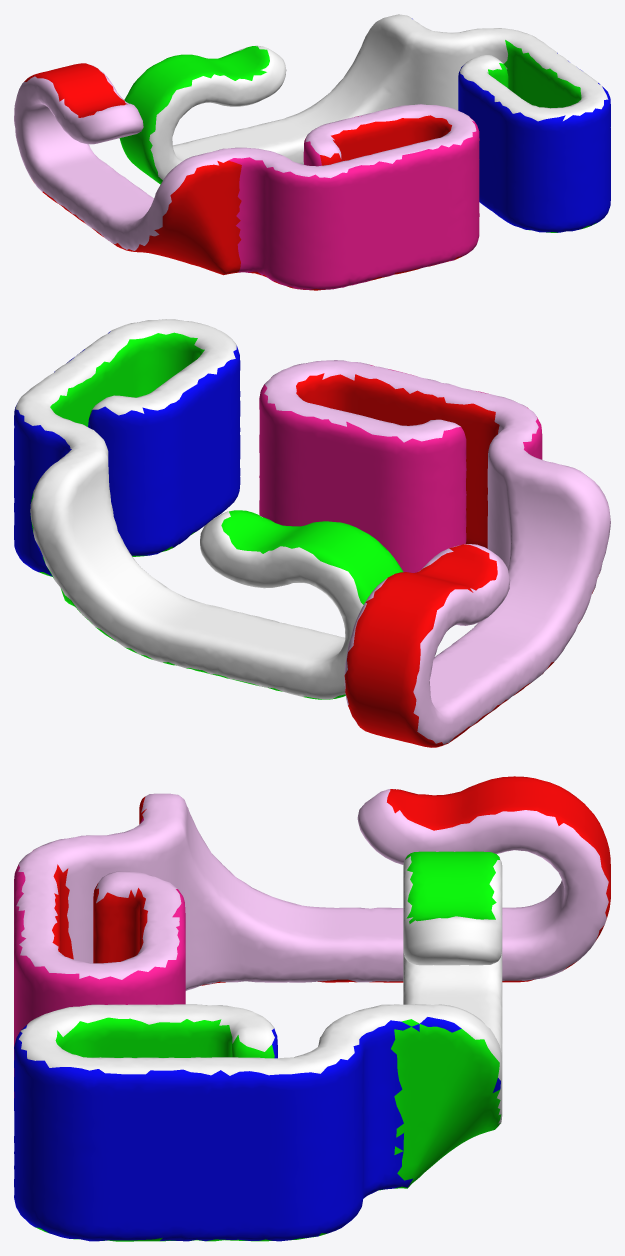
Rendered from model_28977_segmented.obj.
The picture shows the model from 3 angles, top to bottom: view 1: azimuth 30°, elevation 25°; view 2: azimuth 150°, elevation 25°; view 3: azimuth 270°, elevation 25°; orthographic projection. The views are drawn at different scales.
Size of the model in its own units: 108 by 31 by 90.48.
